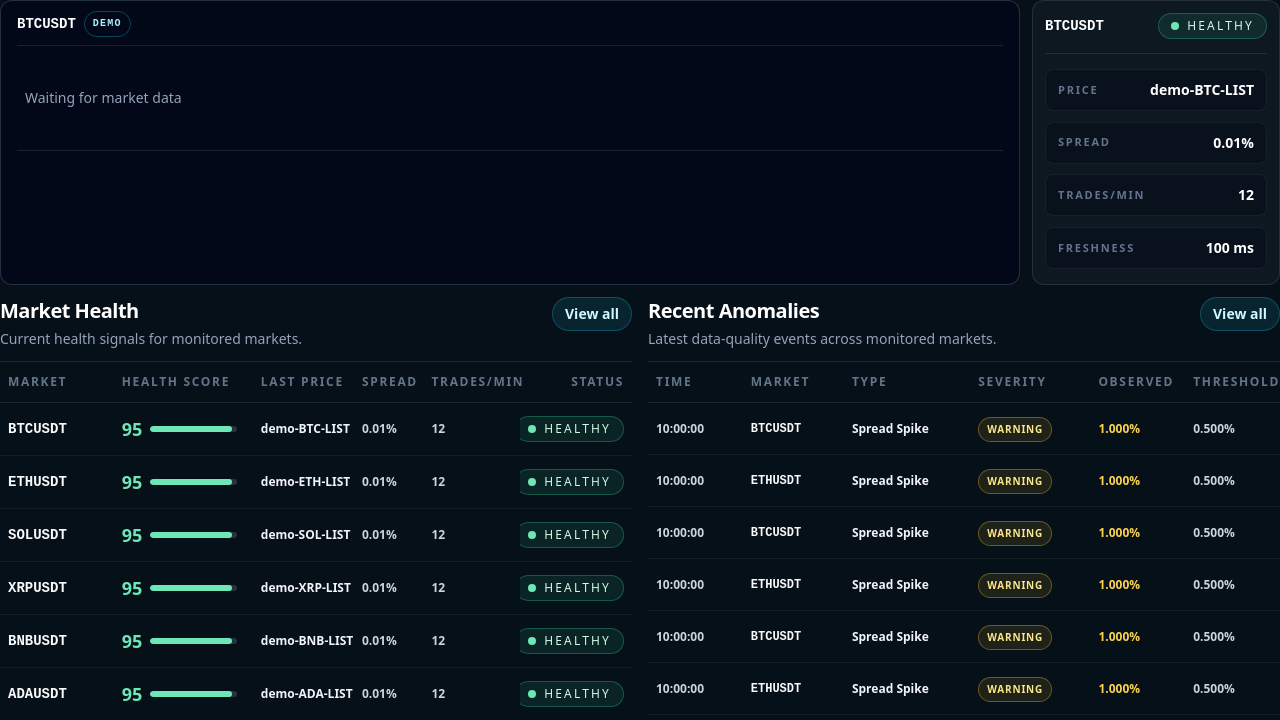
Test case: dashboard popup identity and return context › opens a direct dashboard symbol with canonical dashboard context
Step 1. Click the button with aria-label "Open BTCUSDT market detail" → (316, 429), box [0,402,632,456]
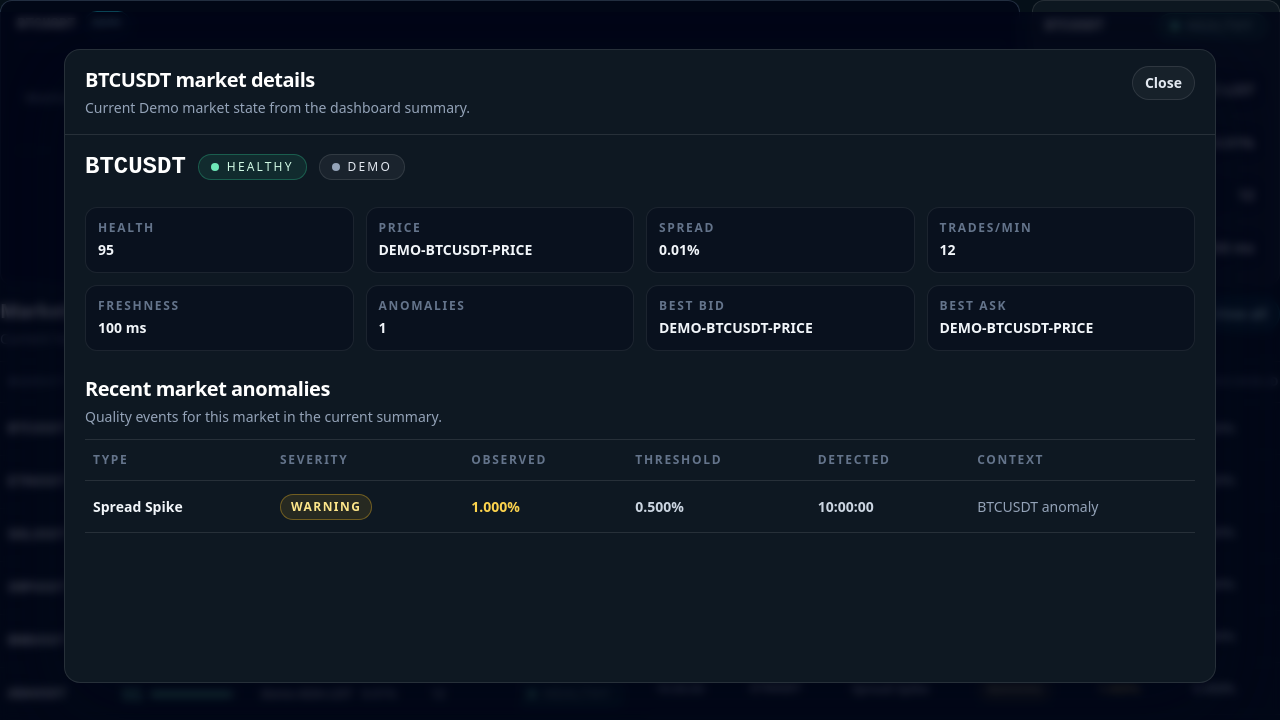
Check: the dialog "BTCUSDT market details" is shown
